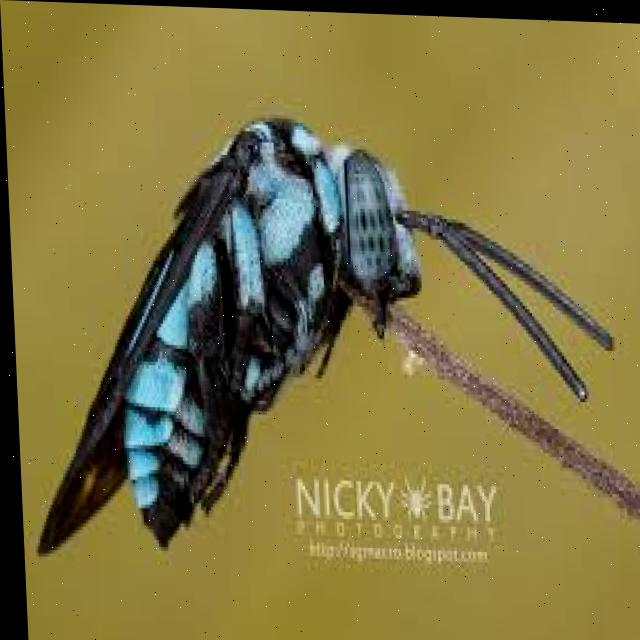Thyreus: (35, 101, 550, 604)
